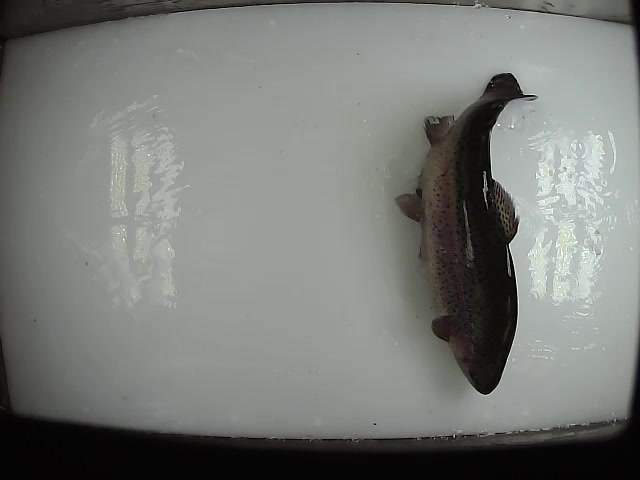fish: (392, 71, 542, 398)
